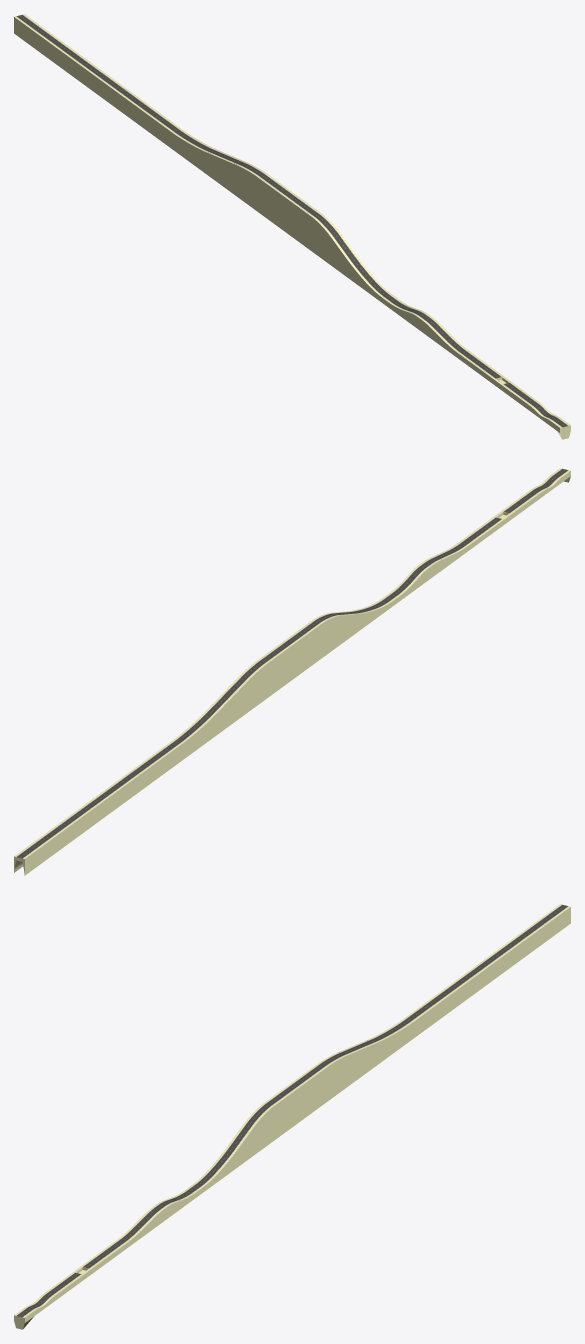
Rendered from track 2.fbx.
3 views of the same model, one above another, from view 1: azimuth 30°, elevation 25°; view 2: azimuth 150°, elevation 25°; view 3: azimuth 330°, elevation 25° (orthographic).
Parts seen in each view (by area): view 1: Cube.001, Cube.002; view 2: Cube.001, Cube.002; view 3: Cube.001, Cube.002.
Boxes of the visible parts, bbox=[...] form: Cube.001: bbox=[14, 14, 570, 439]; Cube.002: bbox=[16, 14, 568, 427]; Cube.001: bbox=[14, 468, 570, 875]; Cube.002: bbox=[16, 468, 568, 858]; Cube.001: bbox=[14, 904, 570, 1329]; Cube.002: bbox=[16, 904, 568, 1317].
Bounding box in the file's own units: 665 × 2445 × 58066.
1 material, 1 textured.
